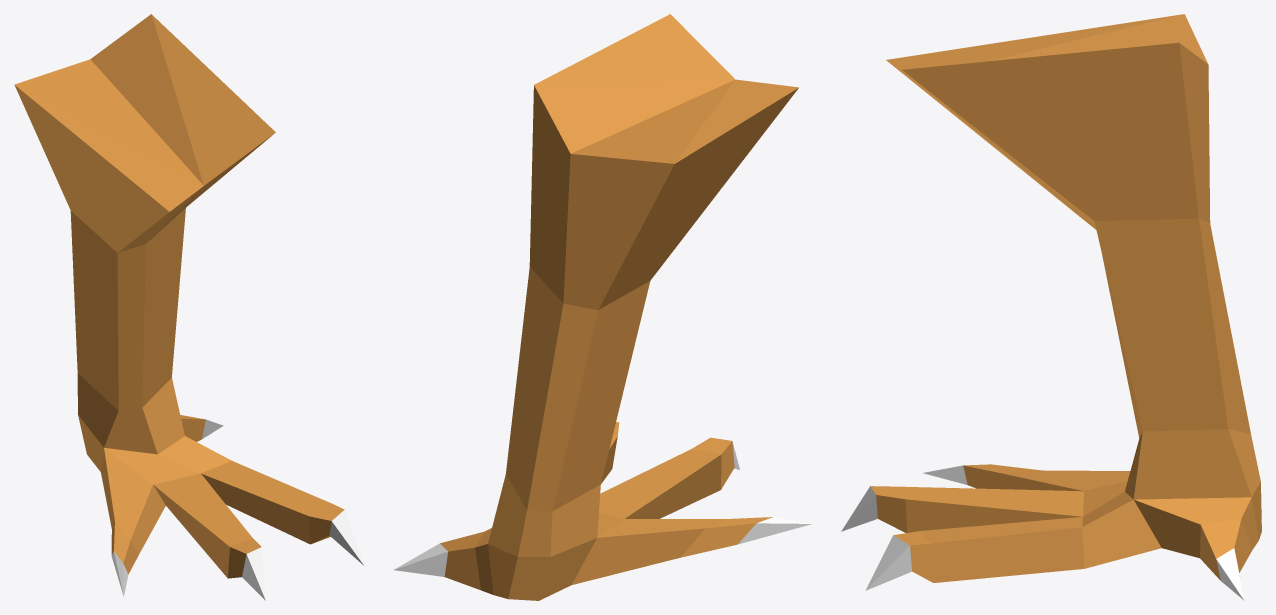
Rendered from RoosterFoot.fbx.
3 views of the same model, side by side, from view 1: azimuth 30°, elevation 25°; view 2: azimuth 150°, elevation 25°; view 3: azimuth 270°, elevation 25° (orthographic). The views are drawn at different scales.
Parts seen in each view (by area): view 1: Vert; view 2: Vert; view 3: Vert.
Part boxes in pixels (x1,y1,x2,y2): Vert: (14,14,364,600); Vert: (394,14,811,600); Vert: (841,14,1261,600).
Size of the model in its own units: 47.29 by 85.14 by 63.61.
